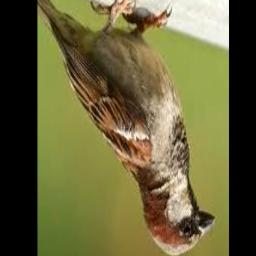Sparrow: (37, 0, 216, 256)
